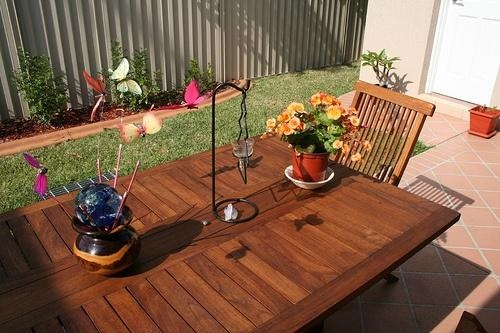chair: (334, 79, 436, 188)
diningtable: (1, 130, 462, 333)
pottedplant: (261, 93, 373, 190), (466, 104, 500, 140)
